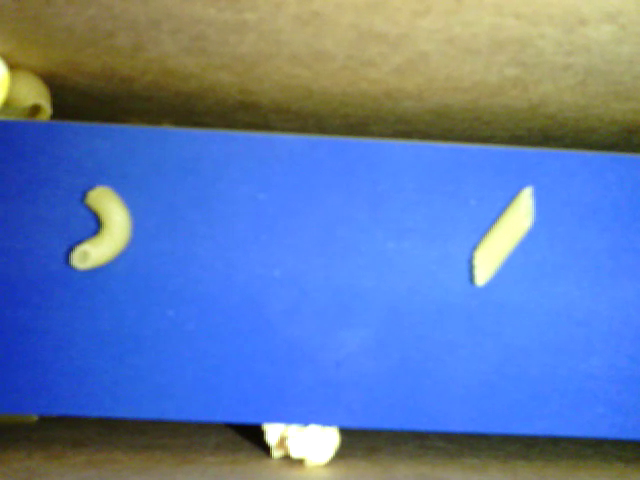elbow: (68, 183, 135, 273)
penne: (472, 184, 543, 292)
shell: (4, 68, 55, 125)
